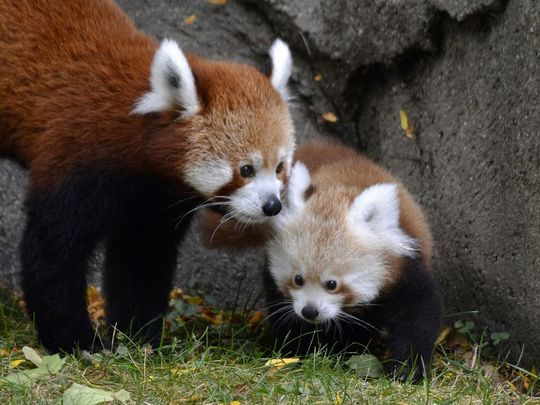red_panda: (1, 2, 288, 352), (258, 138, 456, 372)
